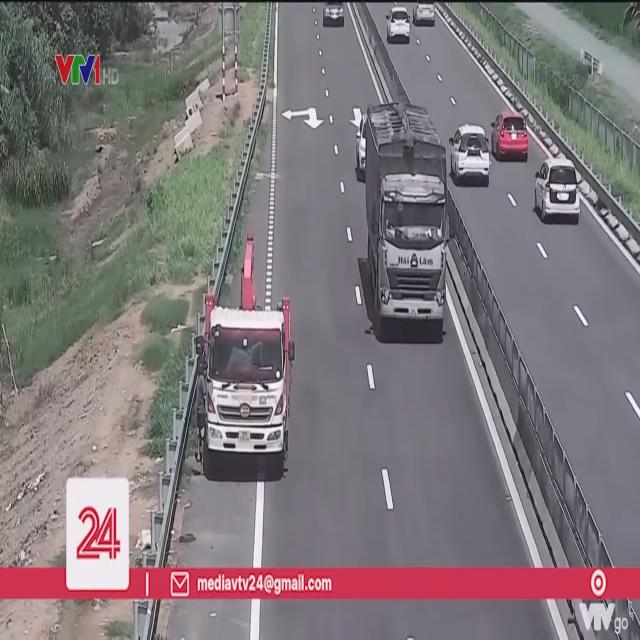car: (533, 156, 581, 225), (448, 124, 492, 187), (490, 112, 528, 162), (387, 8, 413, 44), (413, 1, 436, 28)
truck: (366, 102, 450, 342), (203, 296, 291, 469)
